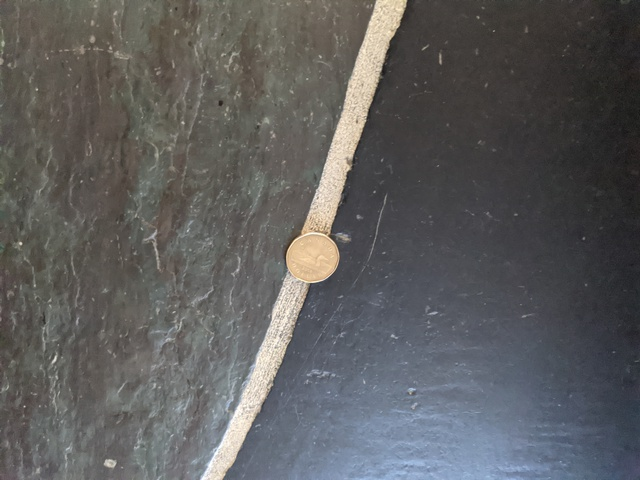loonie: (276, 235, 350, 292)
